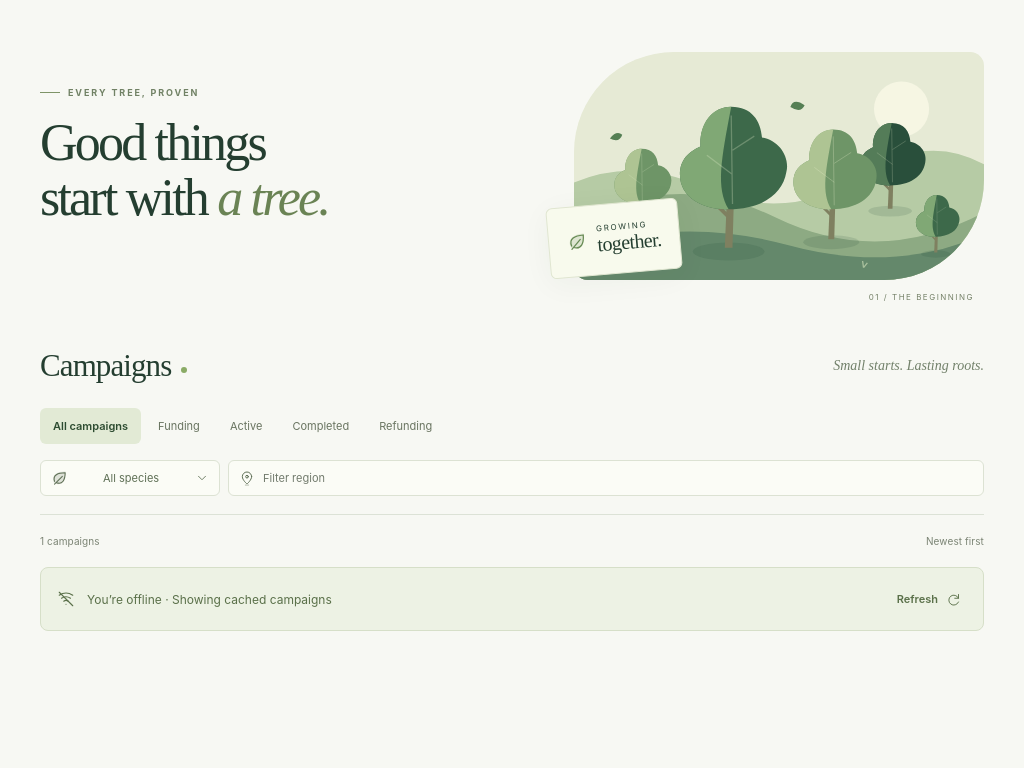
S03 campaigns page, states › C-15 / C-16: offline puts the cached cards under a banner until Refresh succeeds
Expected: the text "You’re offline · Showing cached campaigns" is shown, [87,592,332,606]
Click the button "Refresh".
click(929, 599)  # box [891,577,967,621]
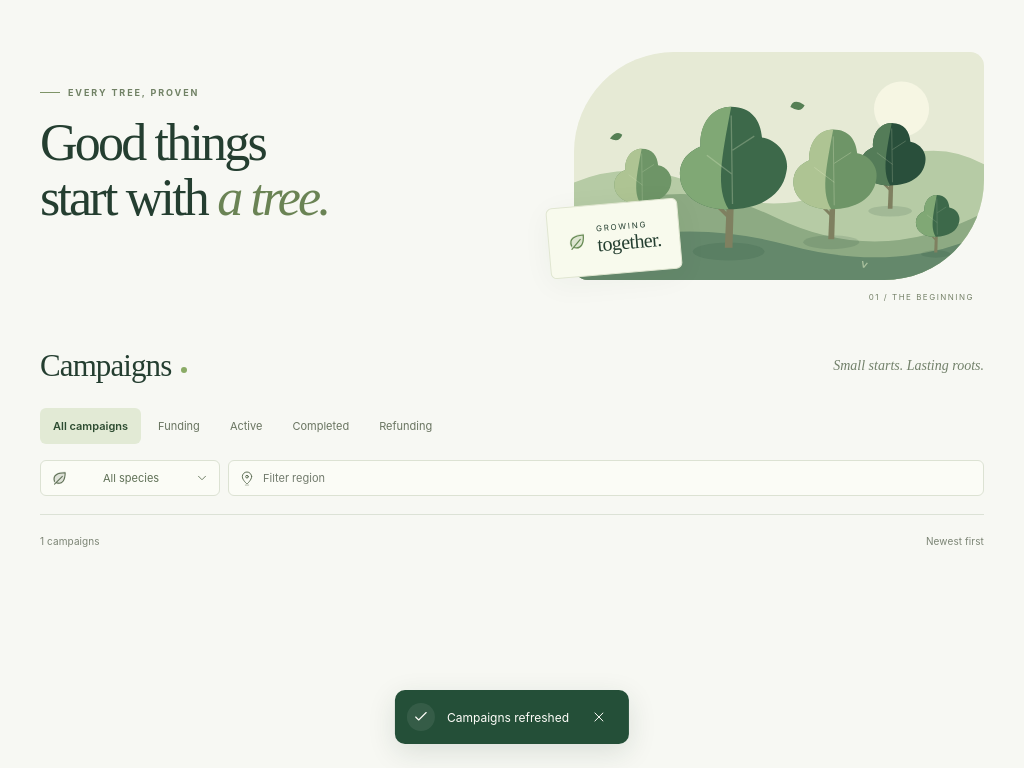
Expected: the text "Campaigns refreshed" is shown, [447,710,569,724]
Expected: the text "You’re offline · Showing cached campaigns" is gone
